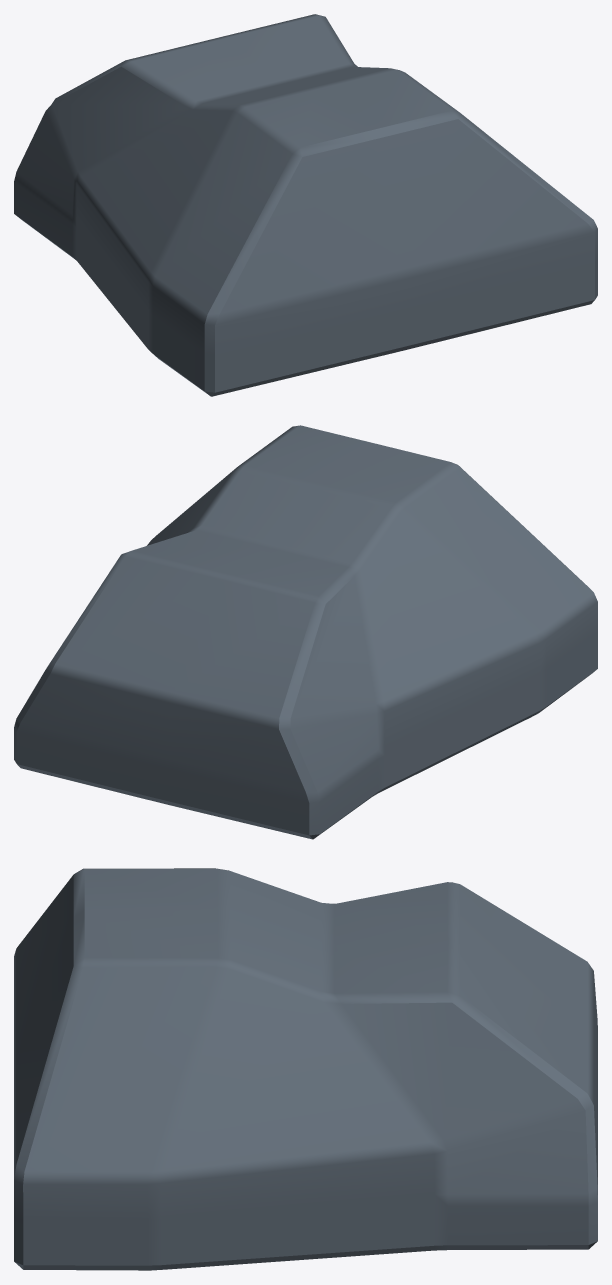
Rendered from Rock_2.fbx.
The picture shows the model from 3 angles, top to bottom: view 1: azimuth 30°, elevation 25°; view 2: azimuth 150°, elevation 25°; view 3: azimuth 270°, elevation 25°; orthographic projection. The views are drawn at different scales.
Parts seen in each view (by area): view 1: rock_2; view 2: rock_2; view 3: rock_2.
Boxes of the visible parts, left/top/right/bottom form: rock_2: left=14, top=14, right=597, bottom=396; rock_2: left=14, top=425, right=597, bottom=839; rock_2: left=14, top=868, right=597, bottom=1270.
Bounding box in the file's own units: 1.2 × 0.6305 × 1.28.
